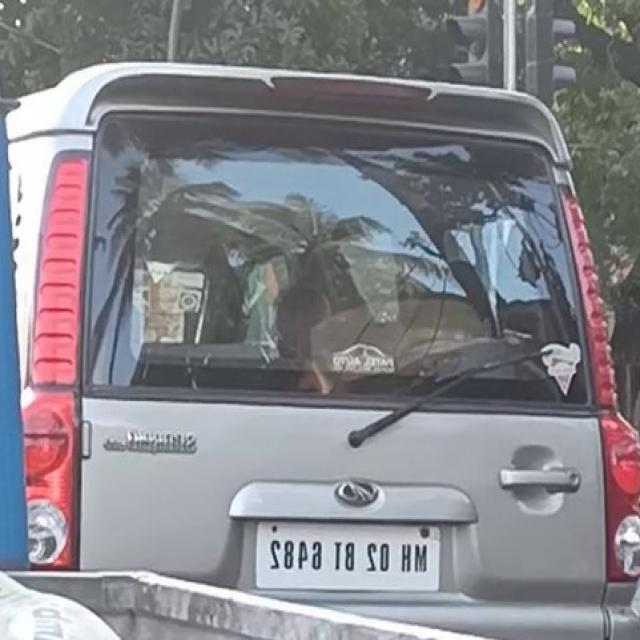license_plate: (247, 519, 447, 594)
